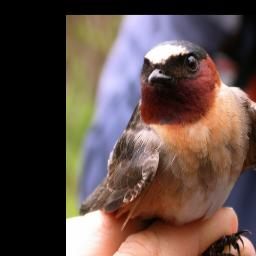Swallow: (80, 40, 256, 256)
